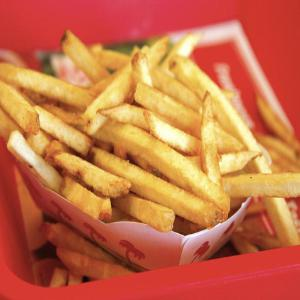fries: (8, 38, 291, 260)
